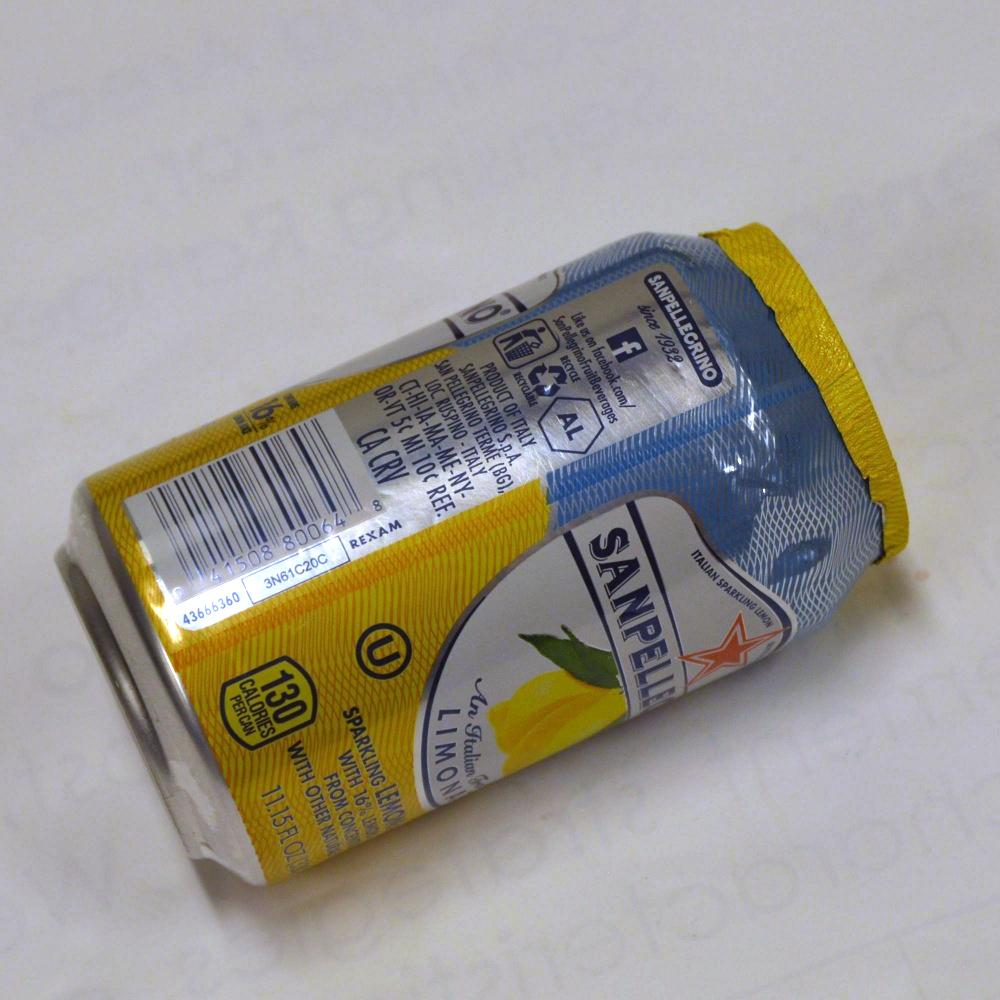Metal: (68, 188, 910, 898)
